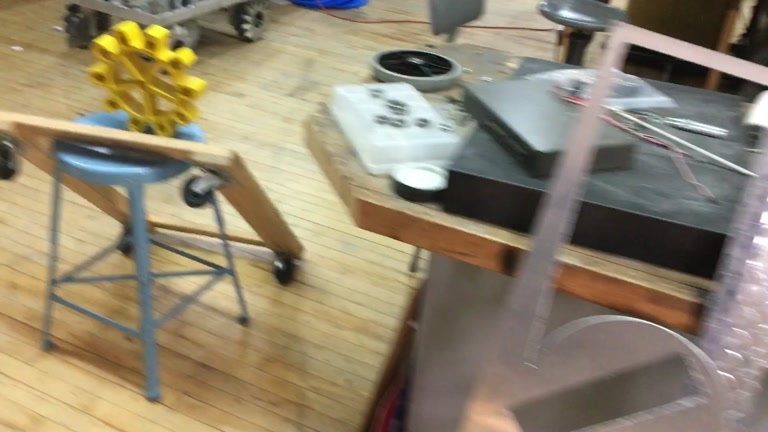gear: (87, 19, 206, 139)
